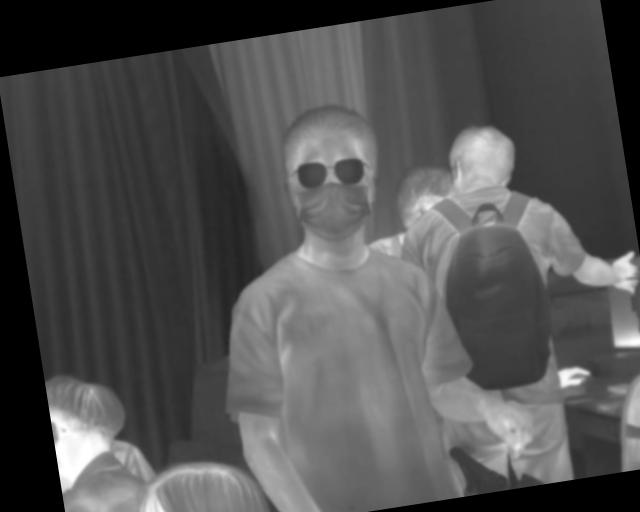face: (275, 98, 391, 249)
